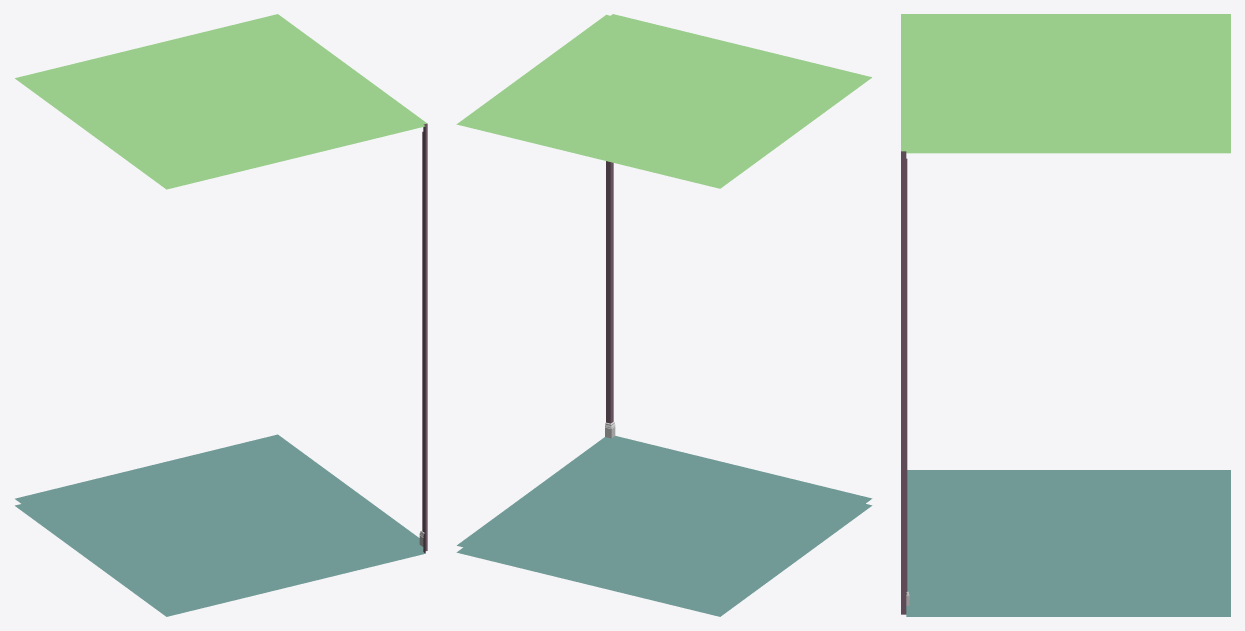
File: Wall_2x2_corner_out_no_walls.fbx
3 views of the same model, side by side, from view 1: azimuth 30°, elevation 25°; view 2: azimuth 150°, elevation 25°; view 3: azimuth 270°, elevation 25° (orthographic). The views are drawn at different scales.
Parts seen in each view (by area): view 1: Wall_2x2_corner_out_full; view 2: Wall_2x2_corner_out_full; view 3: Wall_2x2_corner_out_full.
Part boxes in pixels (x1=…): Wall_2x2_corner_out_full: x1=15, y1=14, x2=427, y2=616; Wall_2x2_corner_out_full: x1=456, y1=14, x2=872, y2=616; Wall_2x2_corner_out_full: x1=901, y1=14, x2=1230, y2=616.
Bounding box in the file's own units: 2 × 3.1 × 2.
